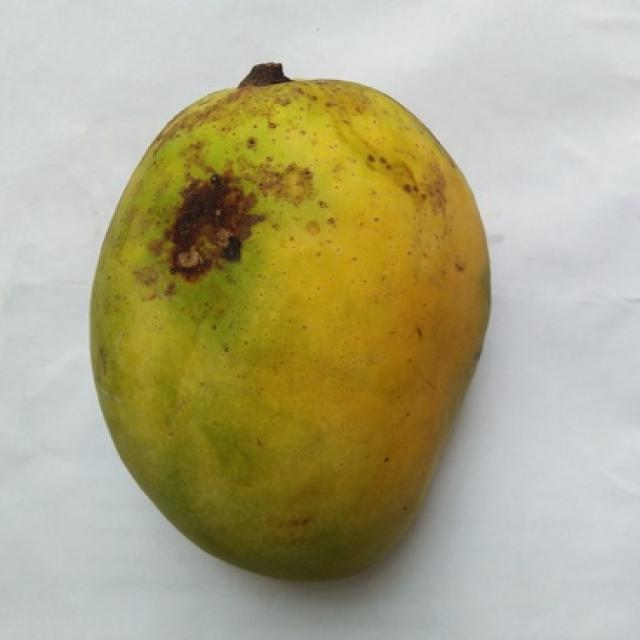Mango: (90, 64, 489, 576)
